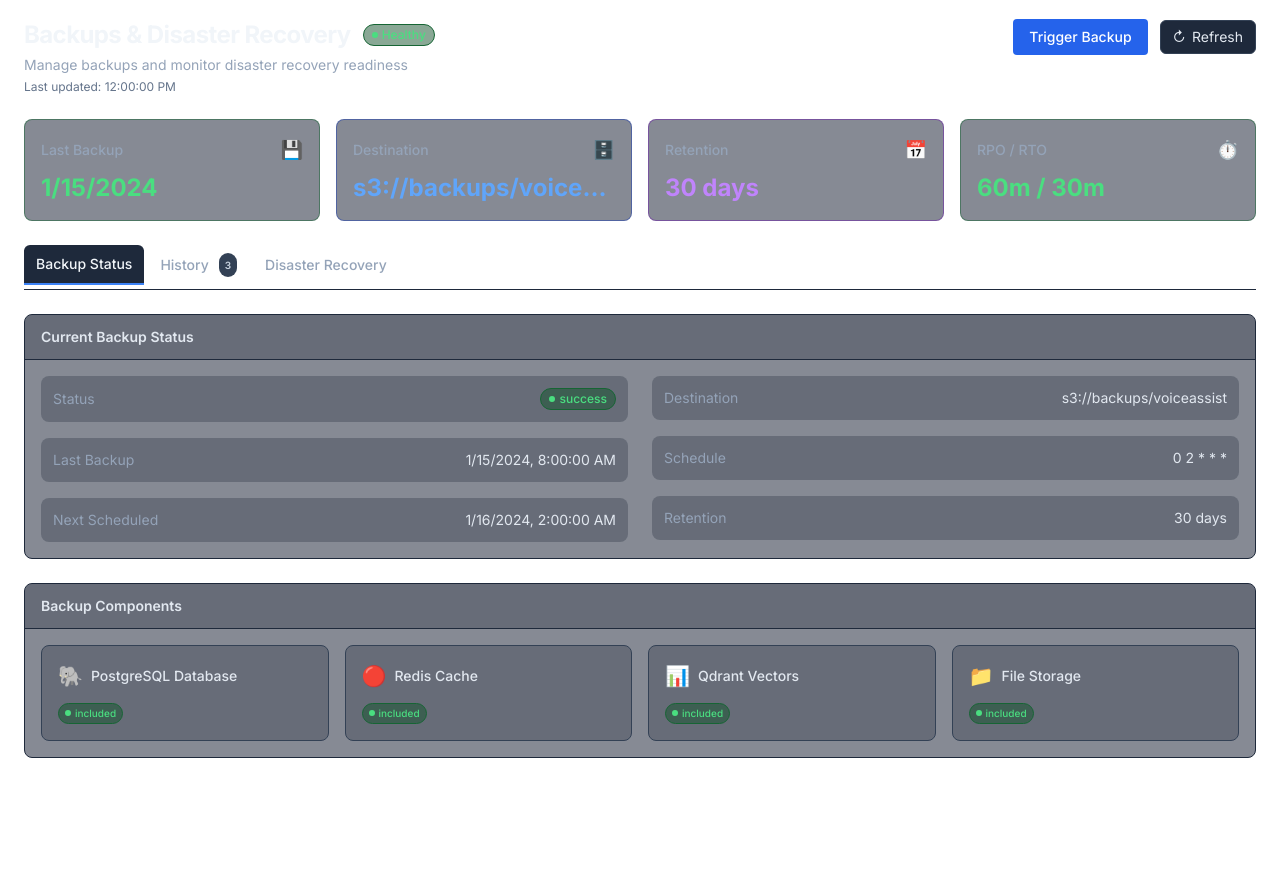
Test: BackupsPage › disaster recovery tab › should display DR checklist
Click the tab "Disaster Recovery".
click(326, 265)  # box [253,245,399,285]
(page scrolled)
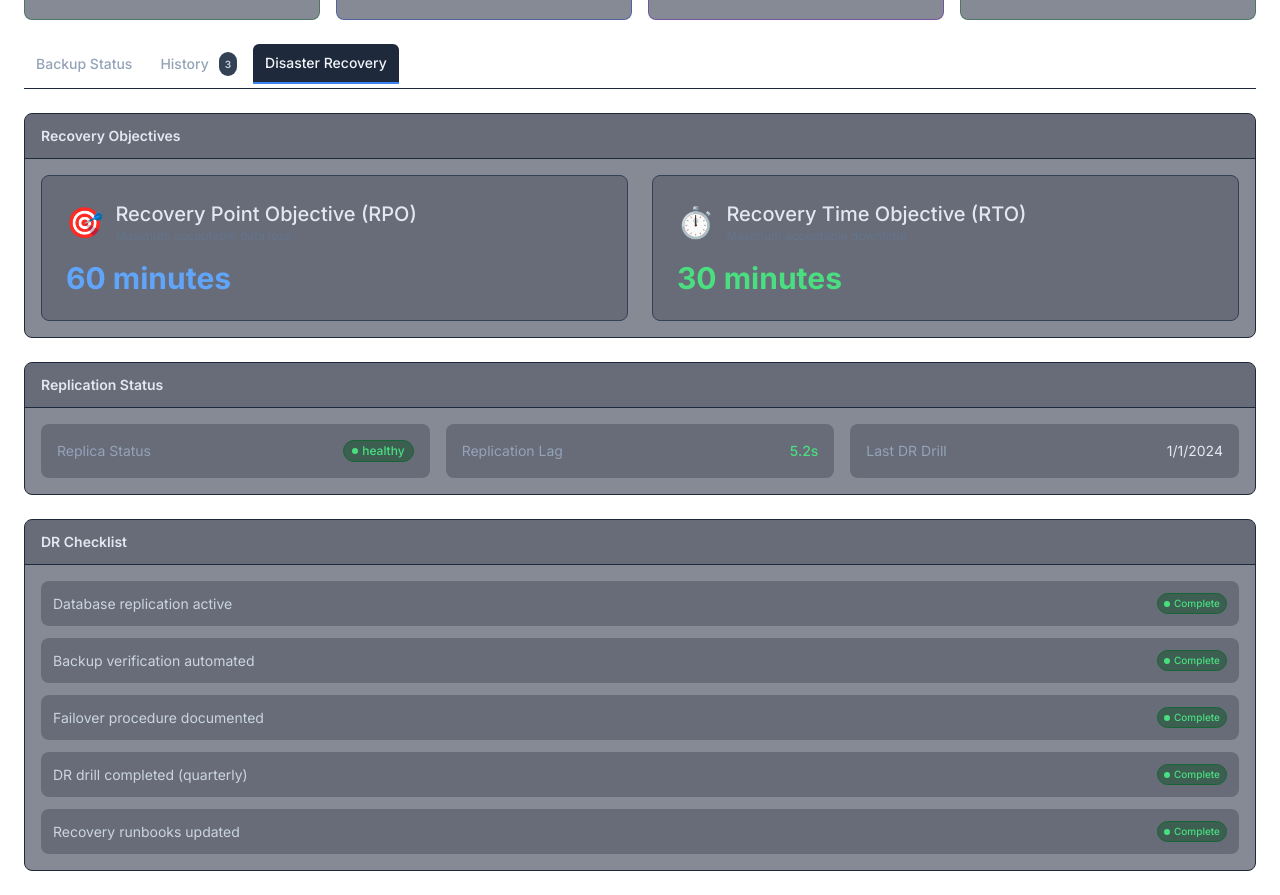
Expected: the heading "DR Checklist" is shown, [41,532,127,552]
Expected: the text "Database replication active" is shown, [53,594,232,614]
Expected: the text "Backup verification automated" is shown, [53,650,254,670]
